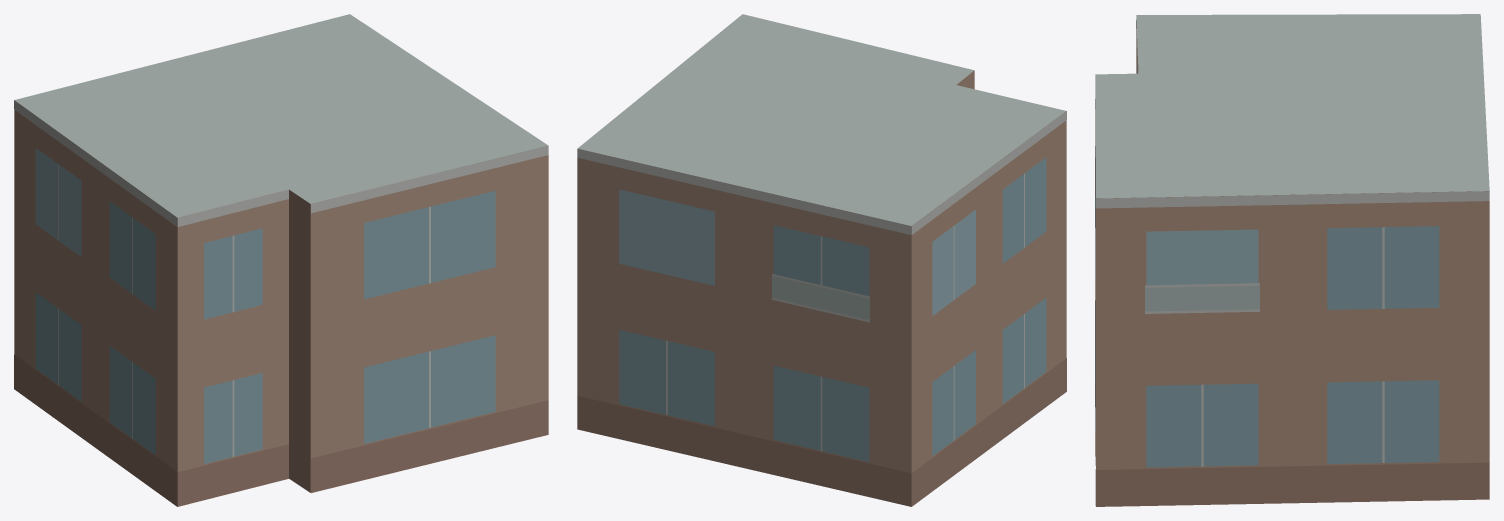
Rendered from survey-upis-32984130.glb.
3 renders of one model, left to right at view 1: azimuth 30°, elevation 25°; view 2: azimuth 150°, elevation 25°; view 3: azimuth 270°, elevation 25°, orthographic. The views are drawn at different scales.
Parts seen in each view (by area): view 1: survey-upis-32984130.tmp; view 2: survey-upis-32984130.tmp; view 3: survey-upis-32984130.tmp.
Part boxes in pixels (bbox=[...]): survey-upis-32984130.tmp: bbox=[14, 14, 548, 506]; survey-upis-32984130.tmp: bbox=[577, 14, 1066, 506]; survey-upis-32984130.tmp: bbox=[1095, 14, 1489, 506].
Bounding box in the file's own units: 9.63 × 7.5 × 8.71.
